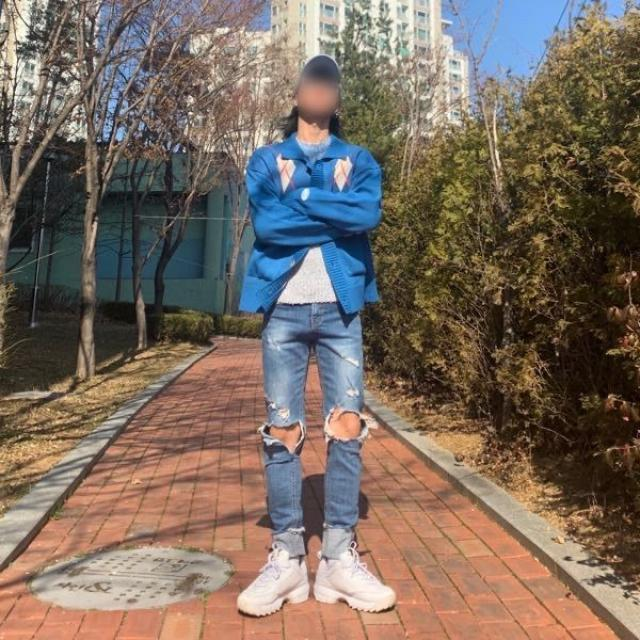cardigan: (238, 131, 384, 312)
denimpants: (258, 301, 365, 555)
